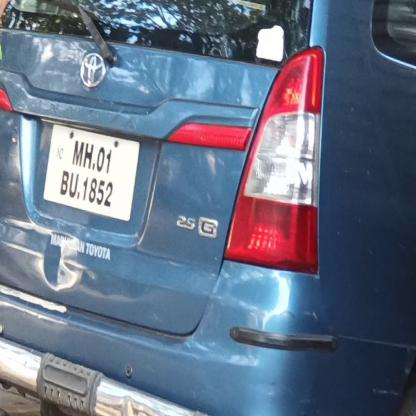license_plate: (43, 121, 139, 221)
